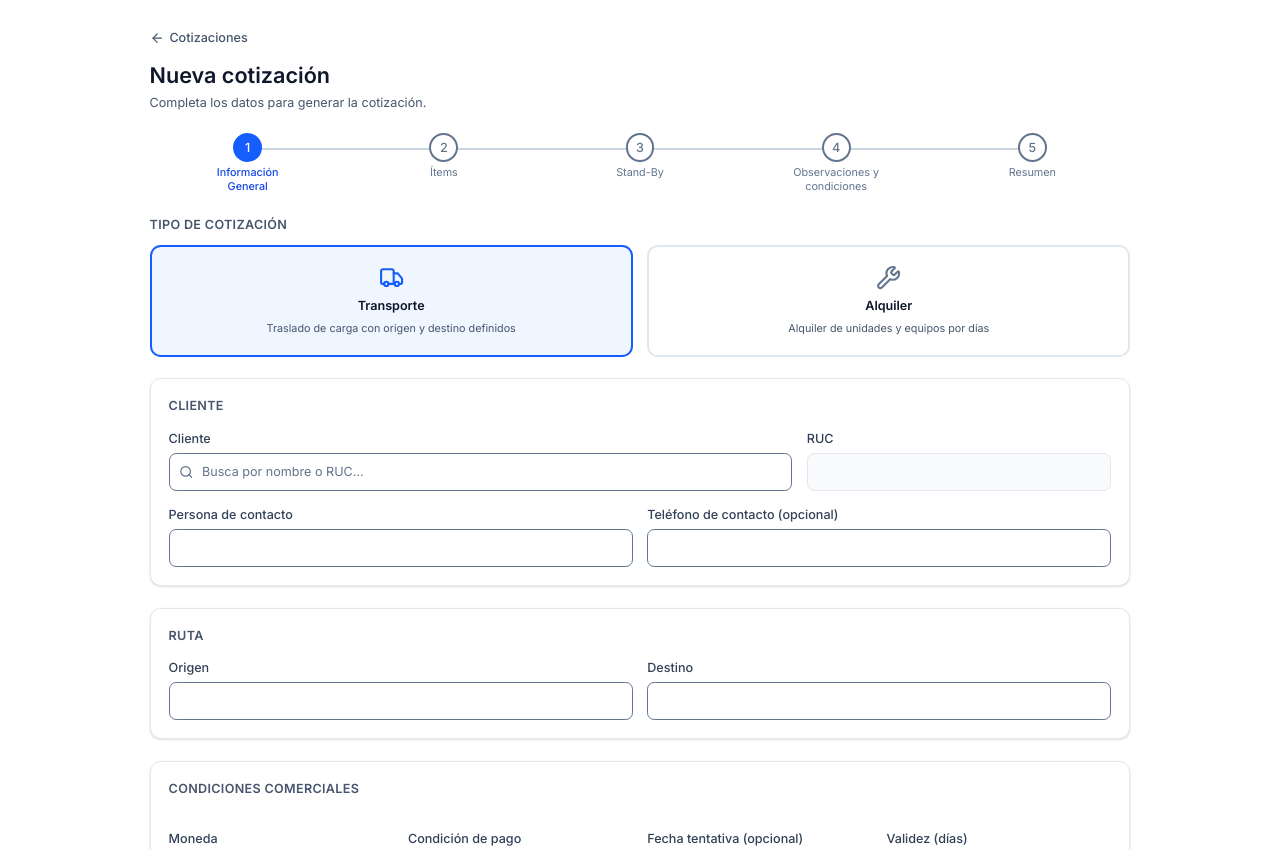
Test: CotizacionWizardPage › no busca clientes con menos de 3 caracteres y muestra el hint
Type "ac" into the dropdown labelled "Cliente" at {"x": 480, "y": 472}, box [169,453,792,491]
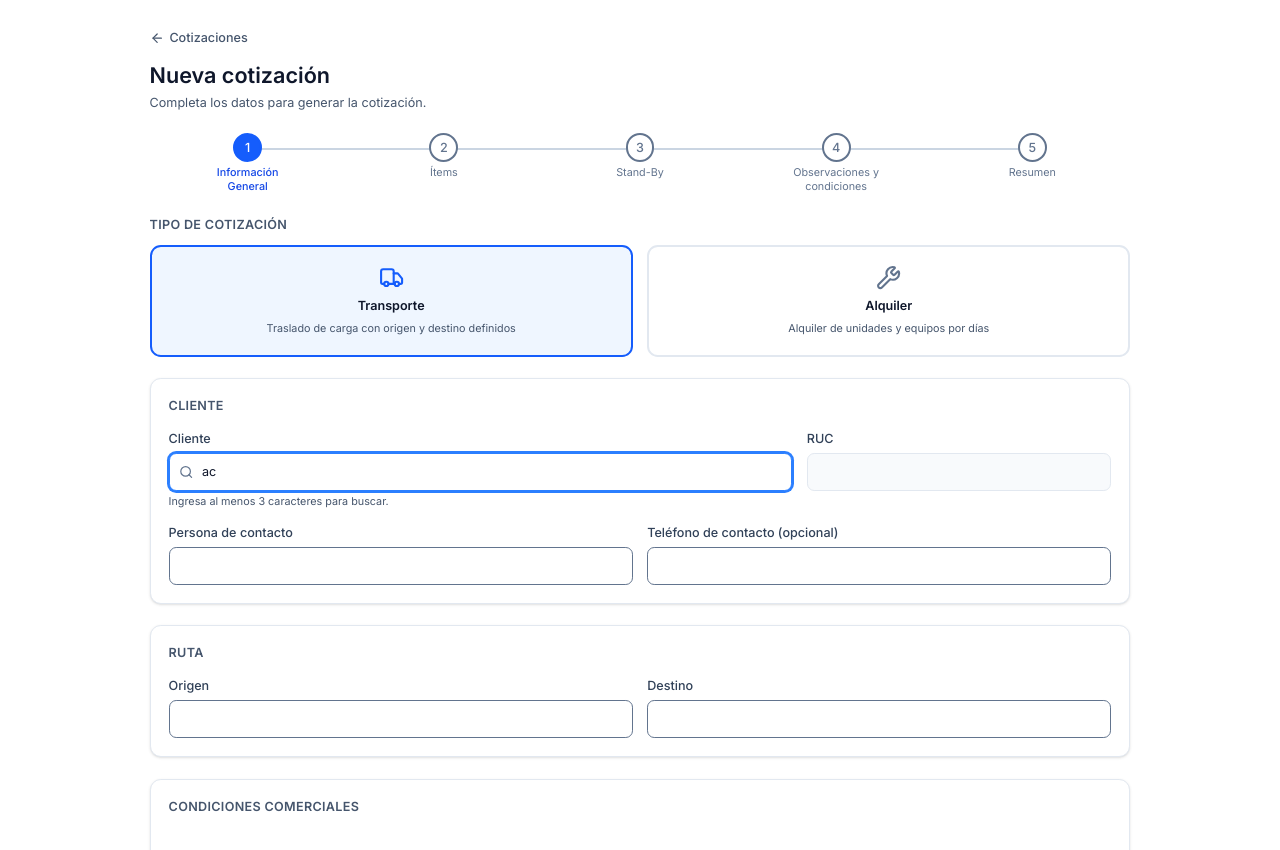
Expected: the text "Ingresa al menos 3 caracteres para buscar." is shown, [169,495,389,508]
